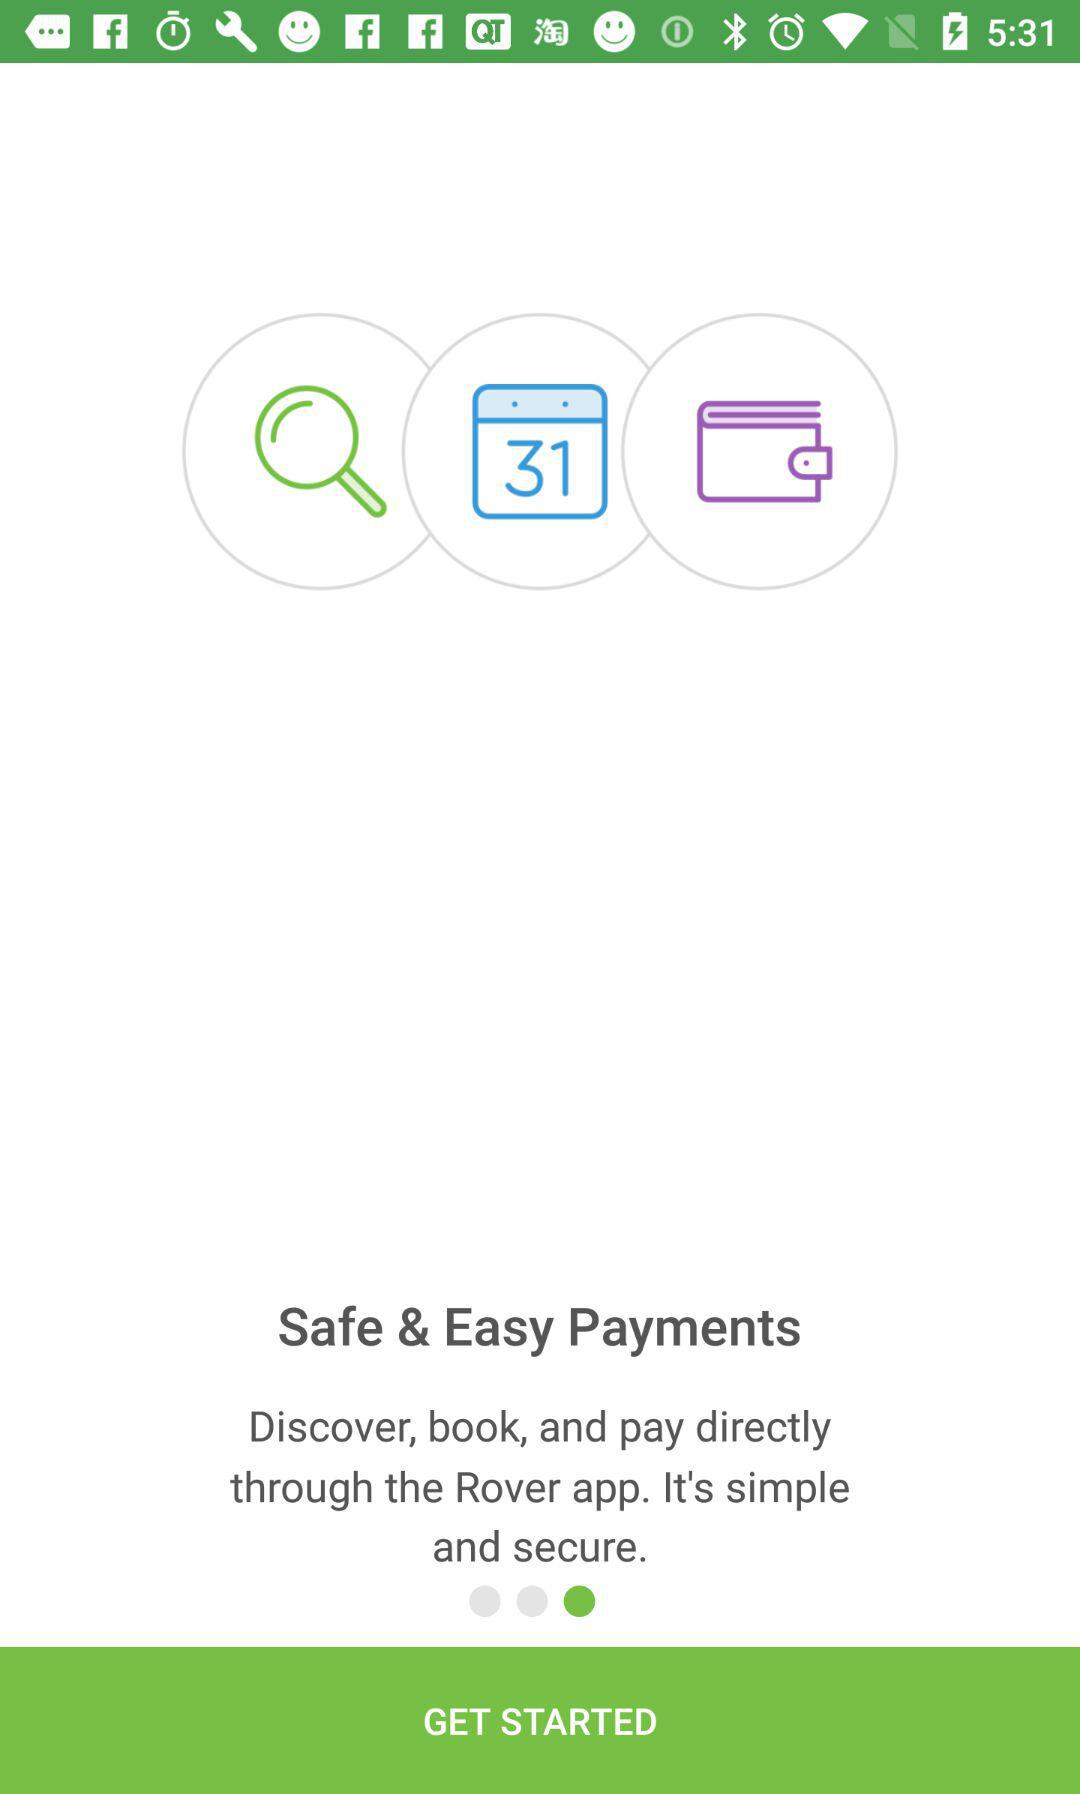Image: (182, 311, 899, 592)
PageIndicator: (468, 1584, 597, 1618)
Text: (231, 1410, 849, 1563), (279, 1304, 801, 1358)
TextButton: (1, 1647, 1080, 1794)
UpperTaskBar: (1, 1, 1080, 64)
